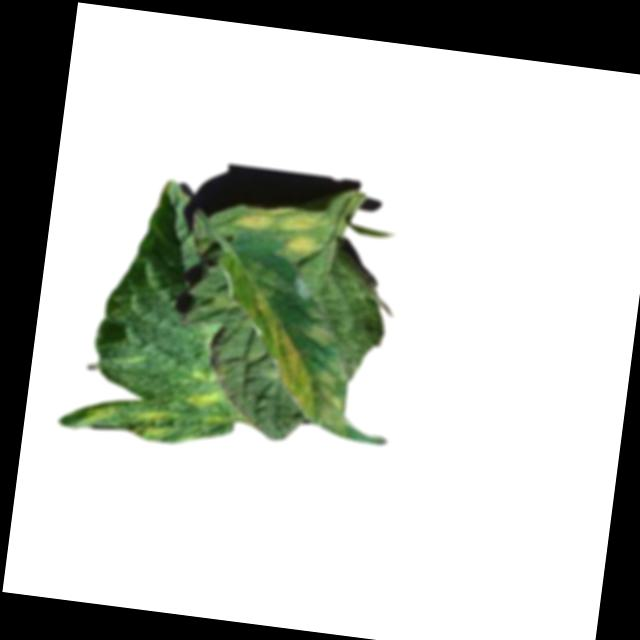Leaf_Mold: (256, 323, 362, 432), (229, 198, 327, 263), (128, 402, 179, 444), (184, 367, 231, 411)
